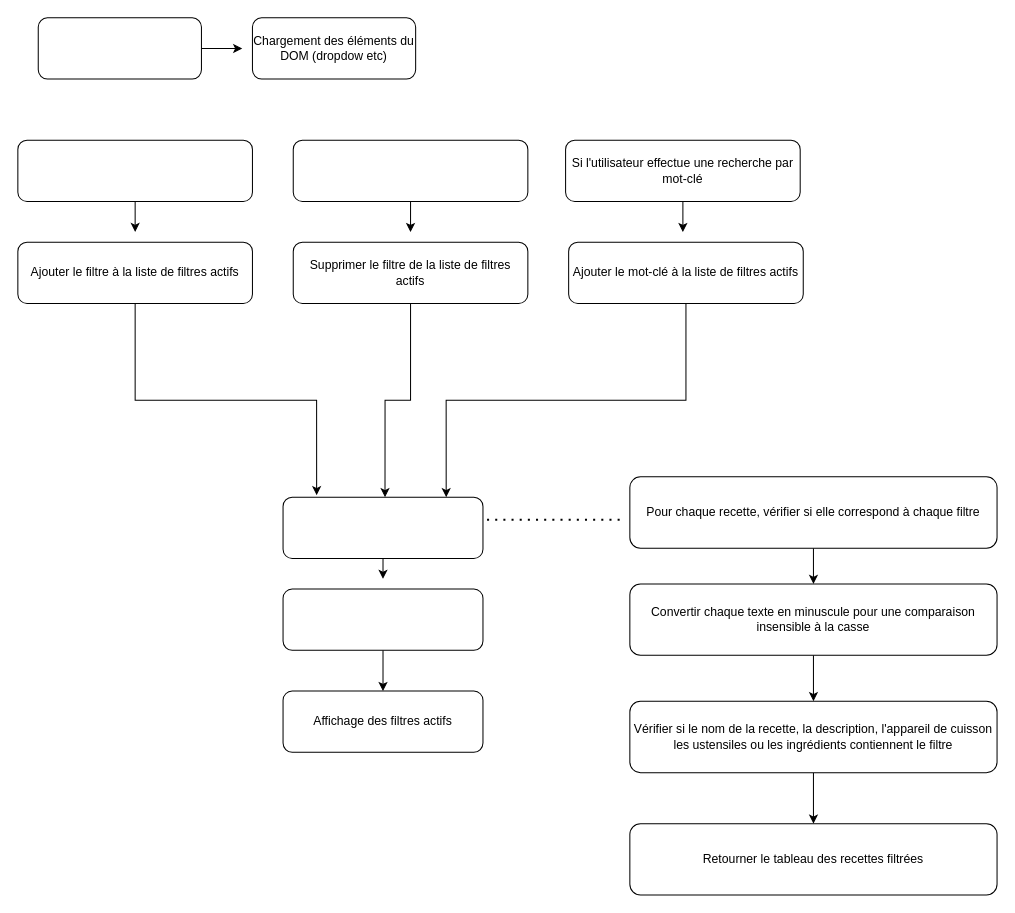
The diagram is 1015 pixels wide and 913 high, and some of its shapes have lost their labels. Here are the shapes that lost their labels. From the top down, the centre of each, then its label:
(119,48): Chargement des recettes (importation des datas)
(134,170): Si l'utilisateur sélectionne un filtre
(410,170): Si l'utilisateur supprime un filtre
(382,527): Fonction recherche des recettes
(382,619): Affichage des recettes
